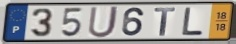3: (29, 7, 56, 38)
5: (60, 7, 84, 38)
6: (121, 7, 145, 38)
L: (181, 6, 205, 37)
T: (154, 6, 177, 37)
U: (87, 5, 121, 39)
